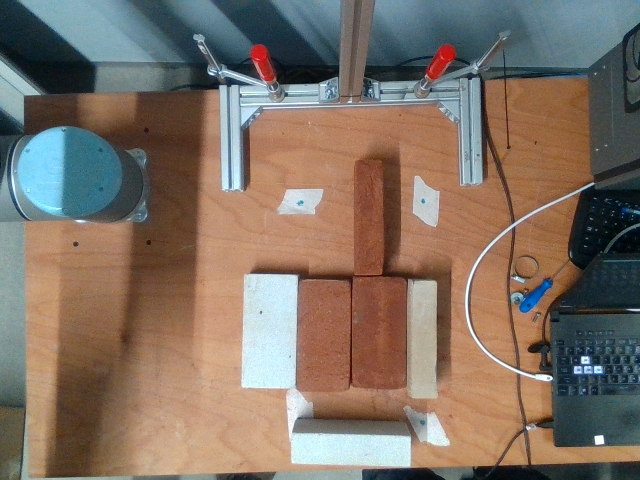brick: (243, 274, 298, 391), (354, 278, 406, 386), (298, 282, 349, 390)
brick-side: (293, 434, 411, 465), (414, 281, 438, 398), (357, 164, 382, 275)
